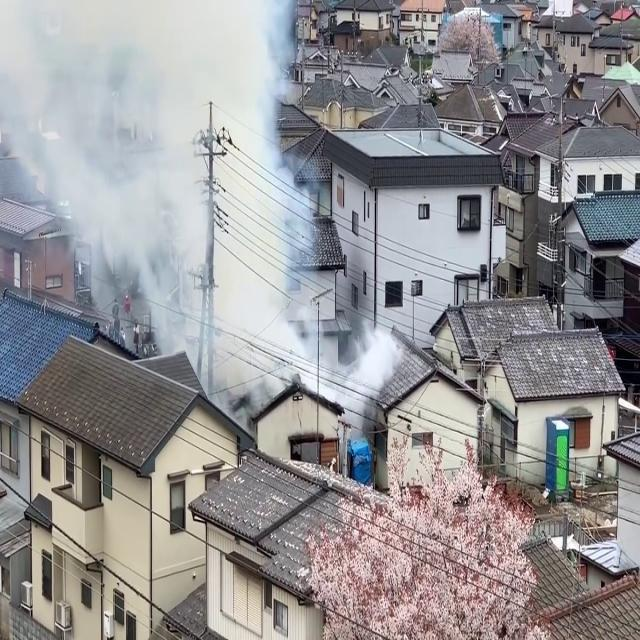Smoke: (6, 0, 400, 387)
